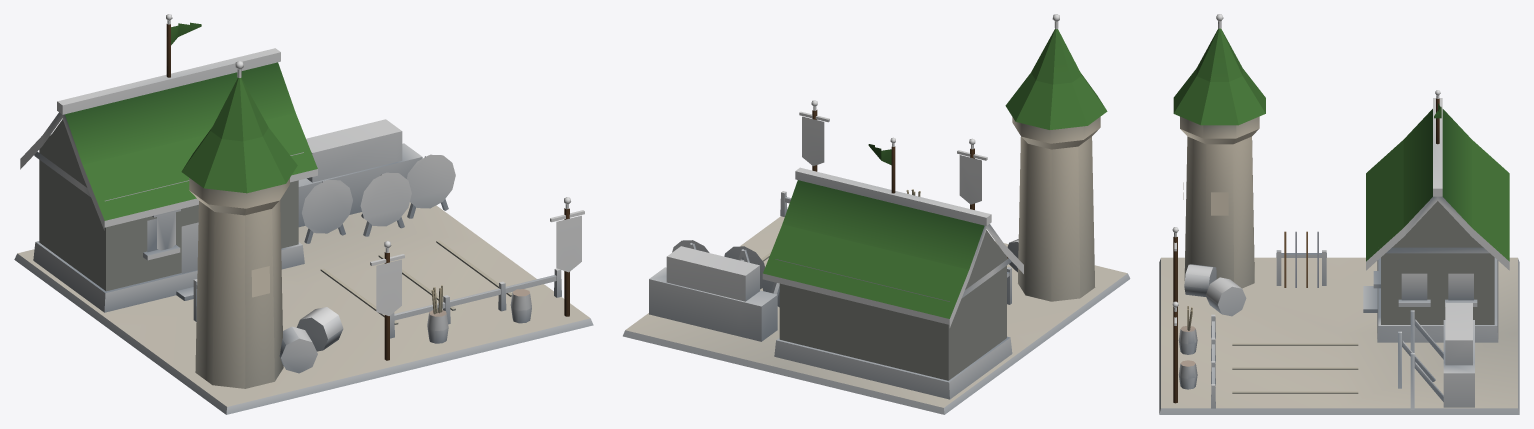
File: archery_range_t4.glb
The picture shows the model from 3 angles, left to right: view 1: azimuth 30°, elevation 25°; view 2: azimuth 150°, elevation 25°; view 3: azimuth 270°, elevation 25°; orthographic projection. The views are drawn at different scales.
Visible parts, largest first — view 1: archery_range_t4; view 2: archery_range_t4; view 3: archery_range_t4.
Part boxes in pixels (x1,y1,x2,y2): archery_range_t4: (14,14,593,414); archery_range_t4: (623,14,1130,414); archery_range_t4: (1159,14,1519,414).
Bounding box in the file's own units: 2.95 × 2.35 × 2.86.
